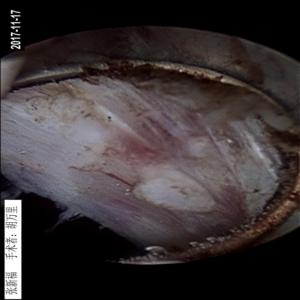film: (69, 82, 270, 244)
